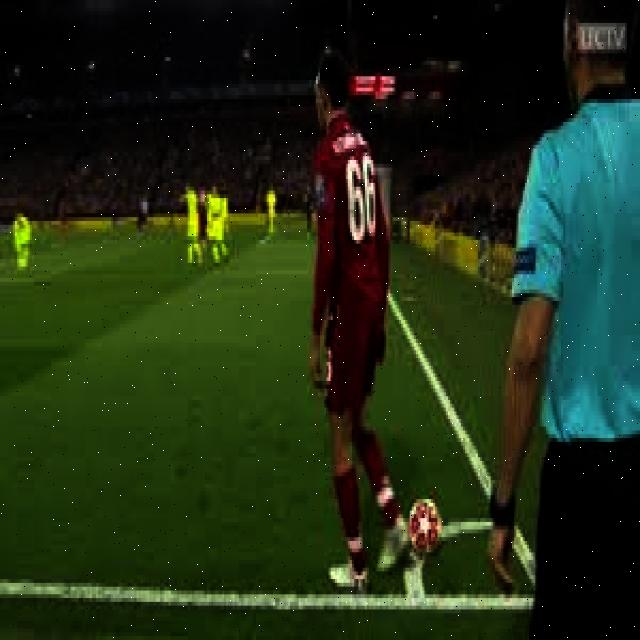corner-kick: (407, 450, 548, 624)
